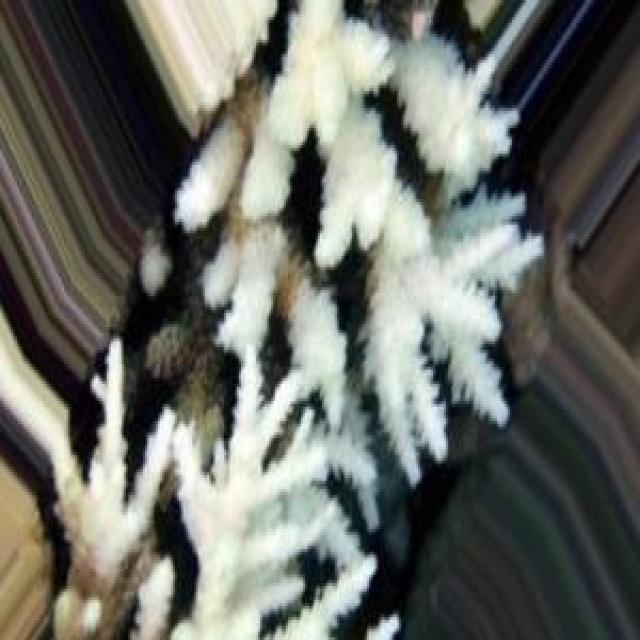Bleached: (56, 3, 544, 638)
